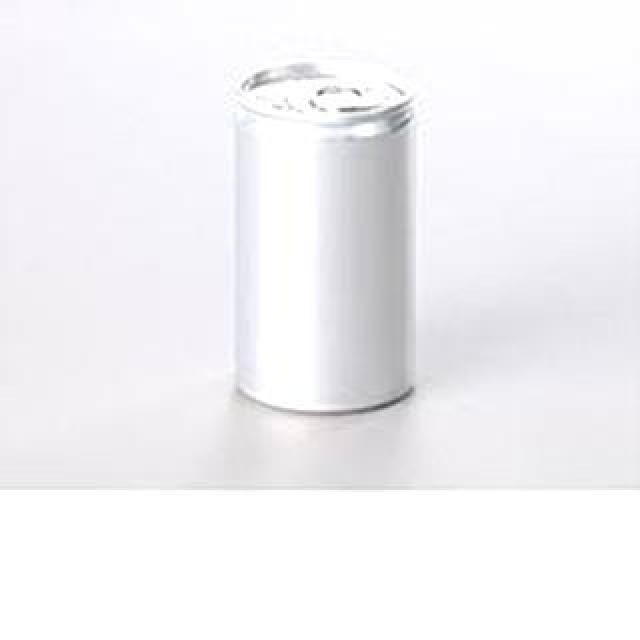Can: (222, 53, 448, 421)
